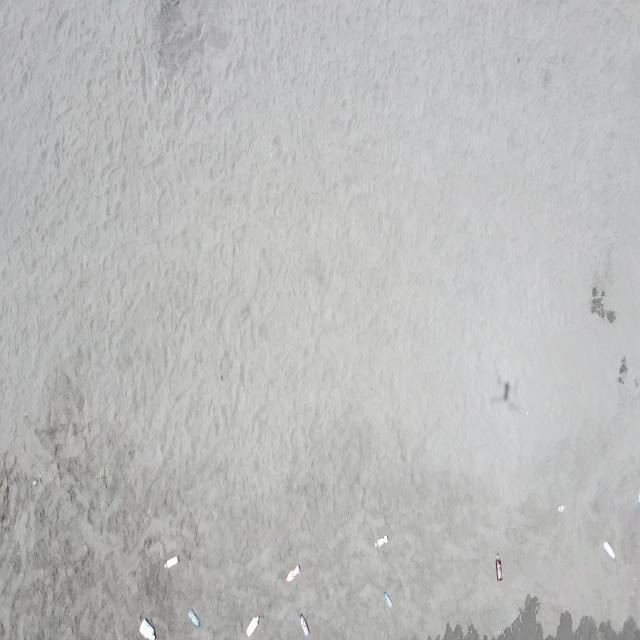plastic-bottle: (138, 618, 158, 640), (284, 564, 300, 584), (602, 538, 616, 560), (247, 615, 260, 636), (299, 613, 310, 637), (164, 554, 179, 570), (374, 534, 389, 550), (495, 552, 503, 582), (188, 609, 200, 627), (384, 590, 393, 608), (558, 502, 566, 513)
